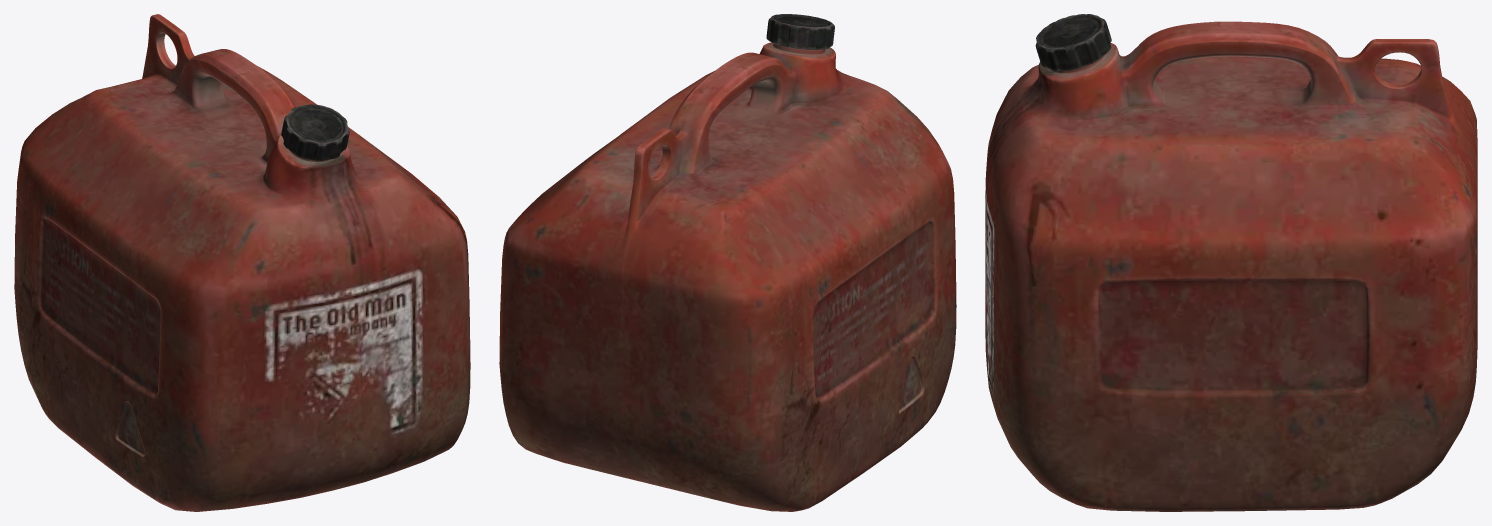
Rendered from plastic_jerrycan.gltf.
The picture shows the model from 3 angles, left to right: view 1: azimuth 30°, elevation 25°; view 2: azimuth 150°, elevation 25°; view 3: azimuth 270°, elevation 25°; orthographic projection. The views are drawn at different scales.
Visible parts, largest first — view 1: plastic_jerrycan; view 2: plastic_jerrycan; view 3: plastic_jerrycan.
Boxes of the visible parts, x1,y1,x2,y2 form: plastic_jerrycan: (14,14,470,511); plastic_jerrycan: (499,14,956,511); plastic_jerrycan: (985,14,1477,511).
Bounding box in the file's own units: 0.268 × 0.3184 × 0.3409.
Materials: 1 (1 with a texture image).
